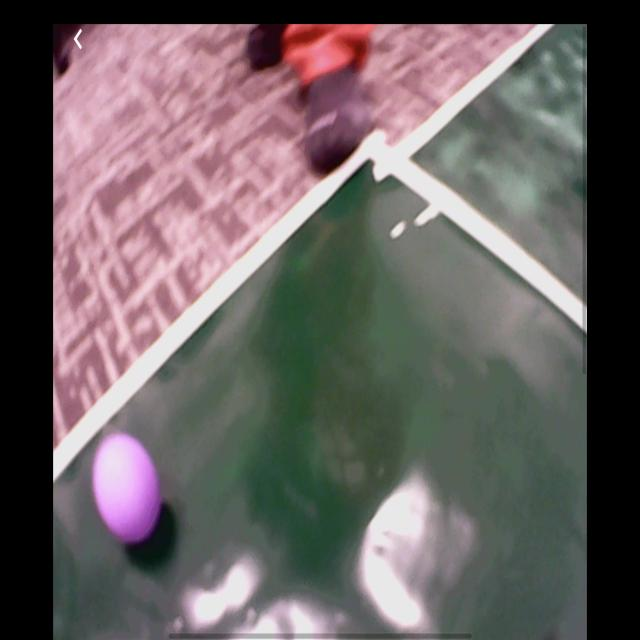ball: (93, 434, 163, 545)
